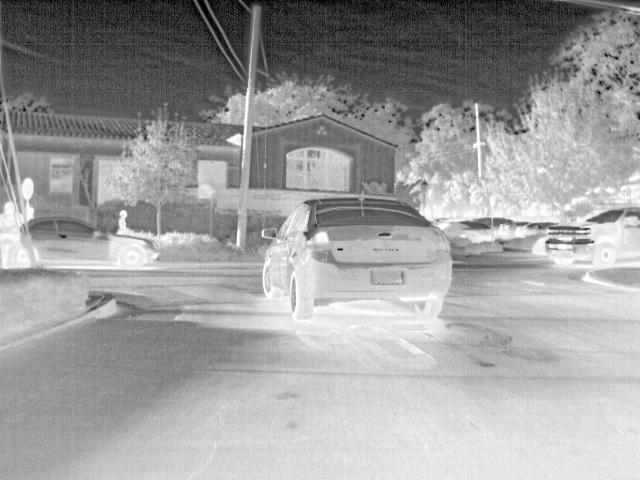car: (258, 196, 453, 318), (542, 205, 640, 270), (26, 213, 116, 268), (115, 234, 159, 269), (449, 217, 492, 243), (515, 219, 546, 239), (501, 220, 525, 237), (490, 216, 509, 232), (429, 214, 447, 227)
person: (1, 199, 24, 268), (118, 207, 131, 234)
